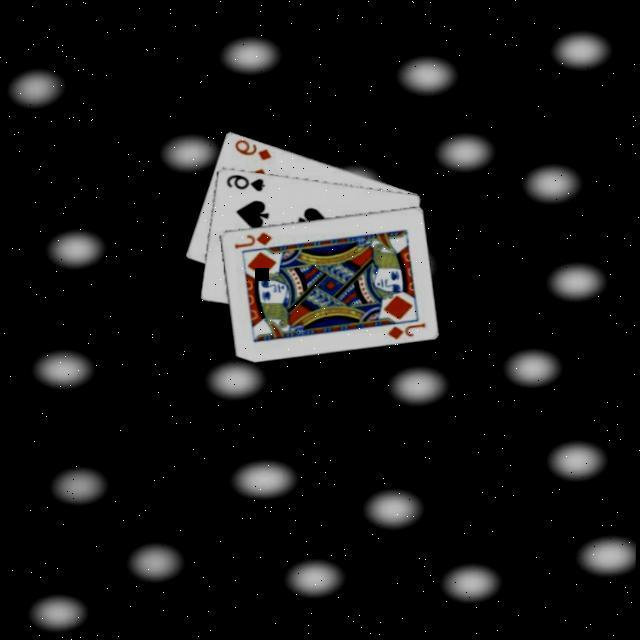6S: (221, 169, 266, 195)
9D: (230, 133, 273, 163)
JD: (228, 227, 273, 250), (382, 318, 427, 341)
